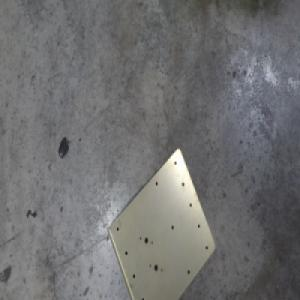MetalSheet: (106, 145, 216, 300)
